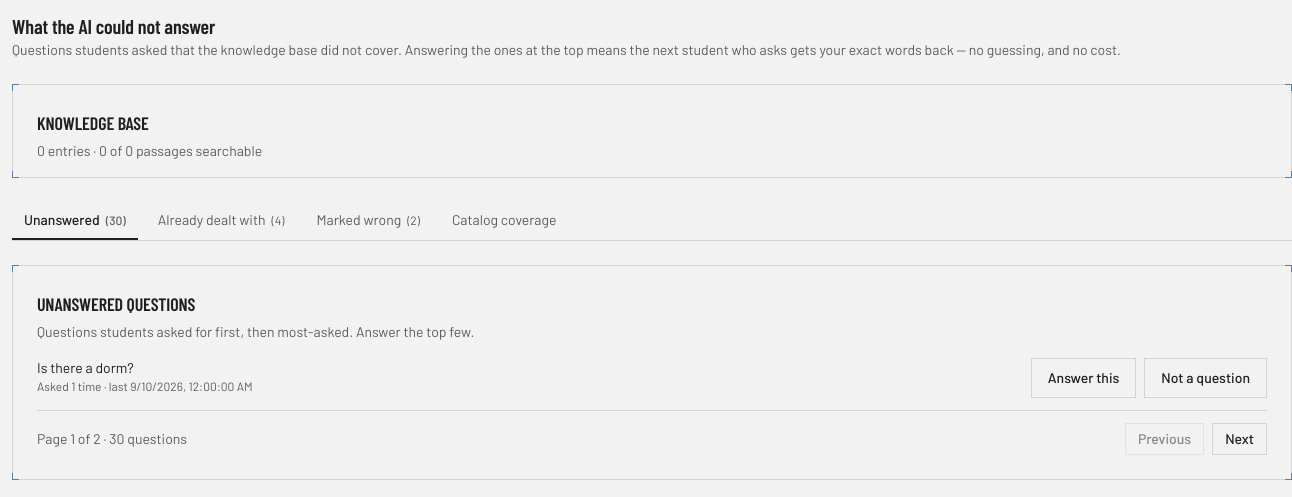
Test case: AiInsightsPage — tabs and paging › says so rather than rendering nothing when a tab is empty
Click the tab "Already dealt with(4)" at (221, 221), box [146,202,296,240]
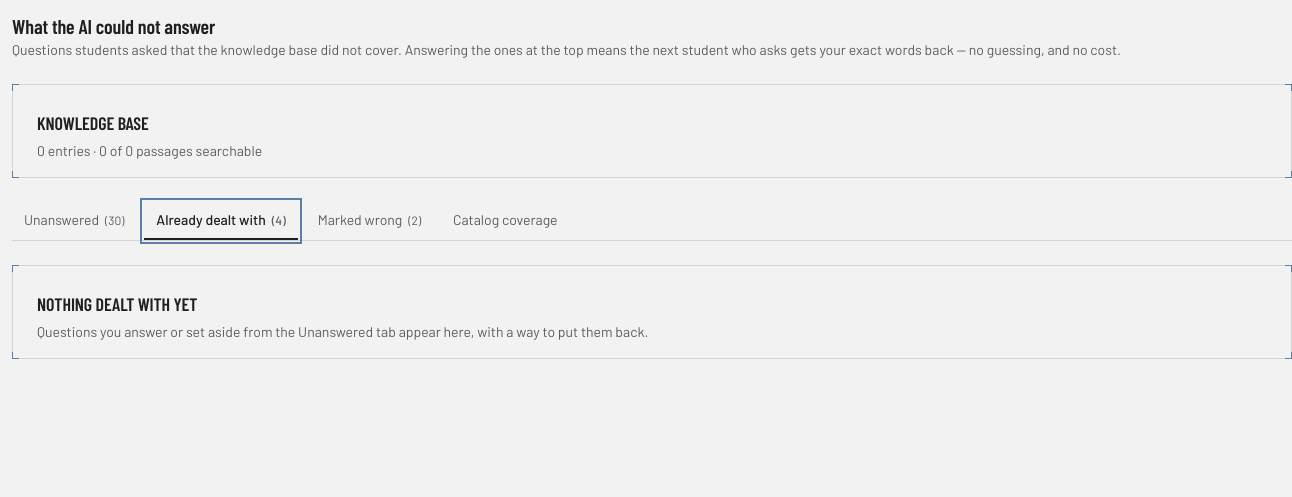
Result: the heading "Nothing dealt with yet" is shown at [37,293,197,315]
